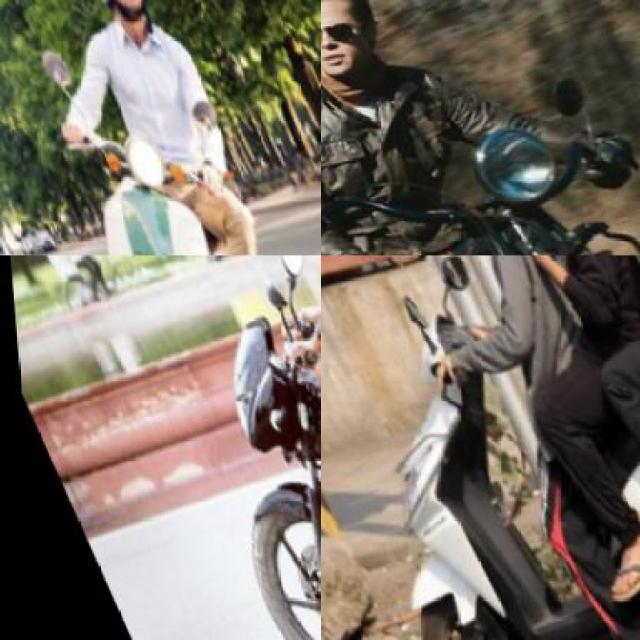With Helmet: (61, 0, 168, 29)
Without Helmet: (320, 0, 403, 97)
